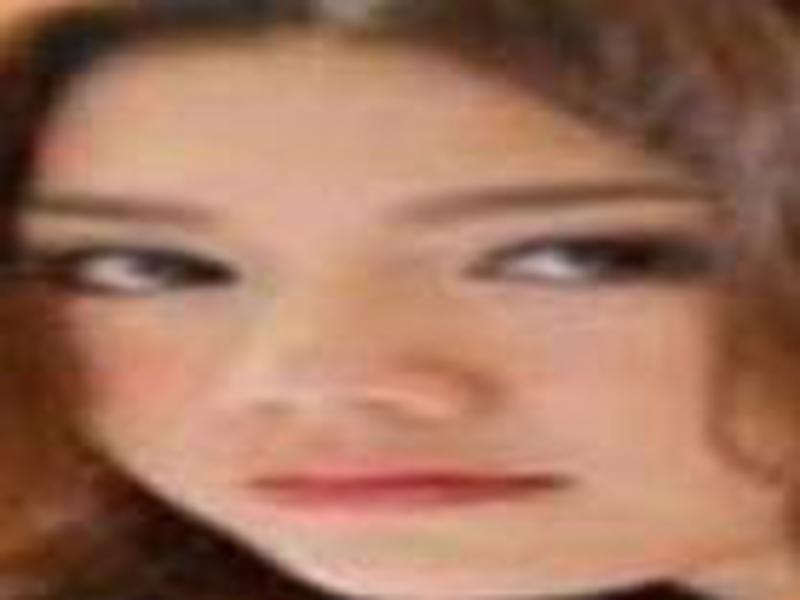without_mask: (21, 75, 763, 600)
